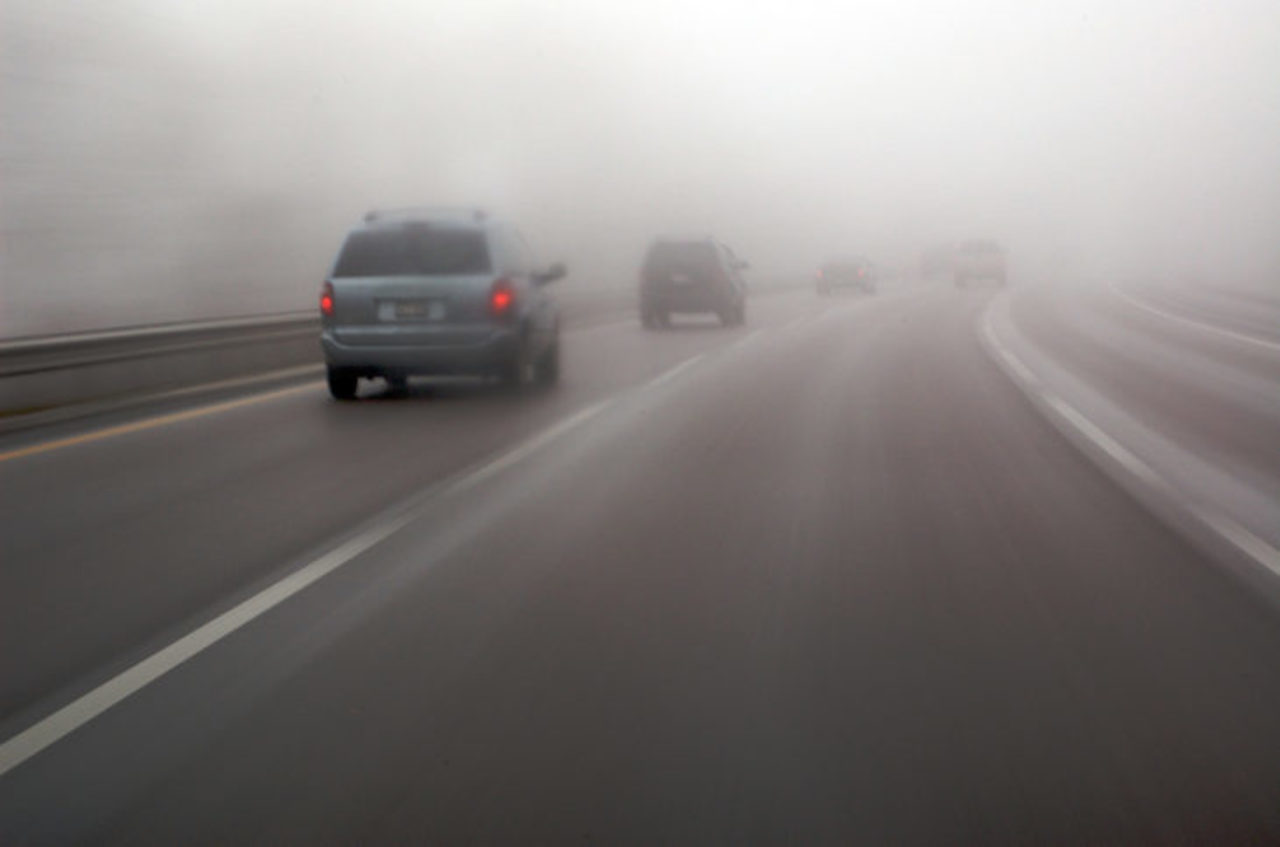car: (315, 212, 568, 403), (638, 239, 748, 330), (954, 235, 1009, 289), (813, 257, 875, 297)
